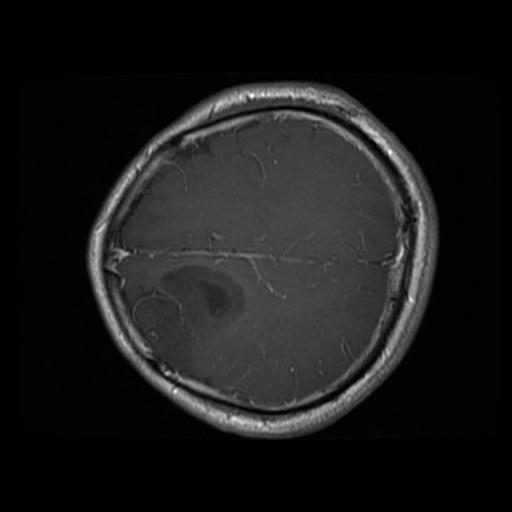glioma: (130, 265, 248, 373)
